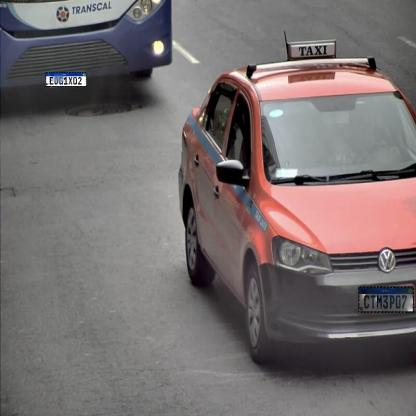PlacaM: (358, 286, 414, 313), (45, 72, 87, 87)
